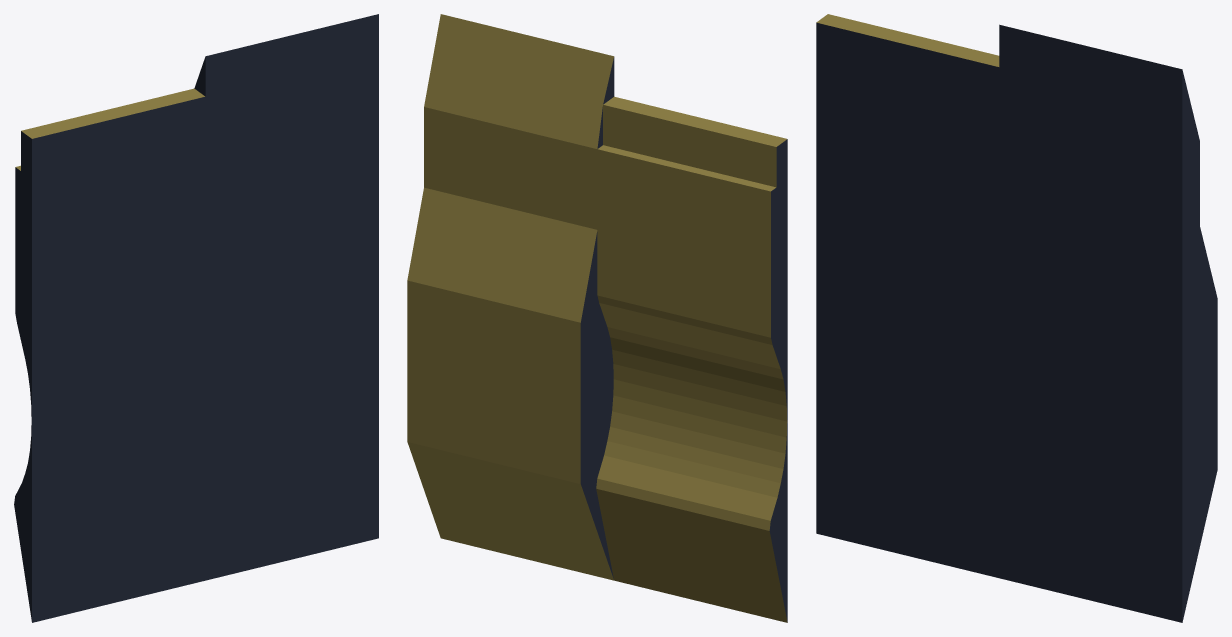
Rendered from Box Special 1.fbx.
3 renders of one model, left to right at view 1: azimuth 30°, elevation 25°; view 2: azimuth 150°, elevation 25°; view 3: azimuth 330°, elevation 25°, orthographic. The views are drawn at different scales.
Parts seen in each view (by area): view 1: Box Special 1; view 2: Box Special 1; view 3: Box Special 1.
Part boxes in pixels (x1,y1,x2,y2): Box Special 1: [14, 14, 378, 622]; Box Special 1: [407, 14, 787, 622]; Box Special 1: [816, 14, 1217, 622].
Bounding box in the file's own units: 1200 × 1733 × 200.
